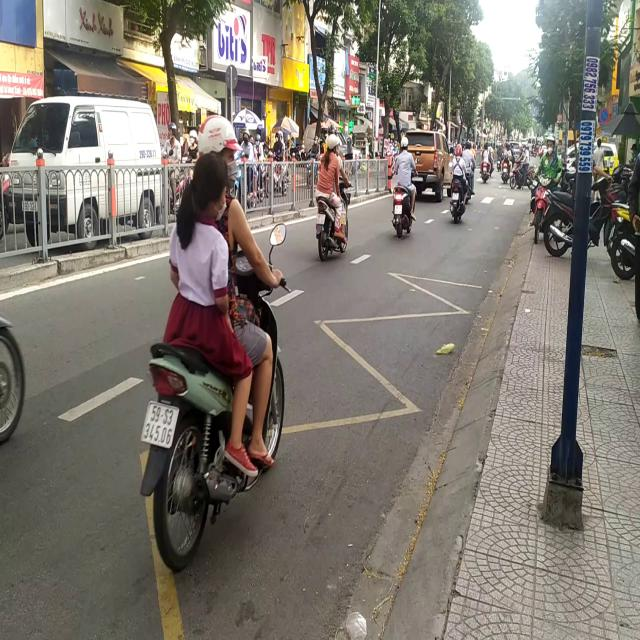bien_trang: (144, 395, 179, 451)
